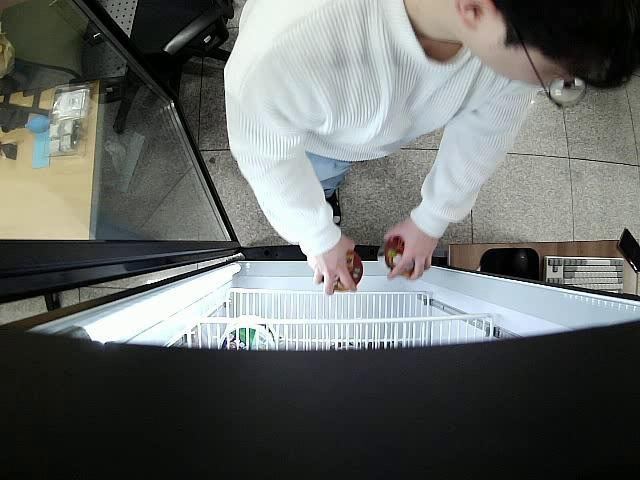06_nuguri_S: (386, 238, 428, 278), (325, 252, 364, 292)
